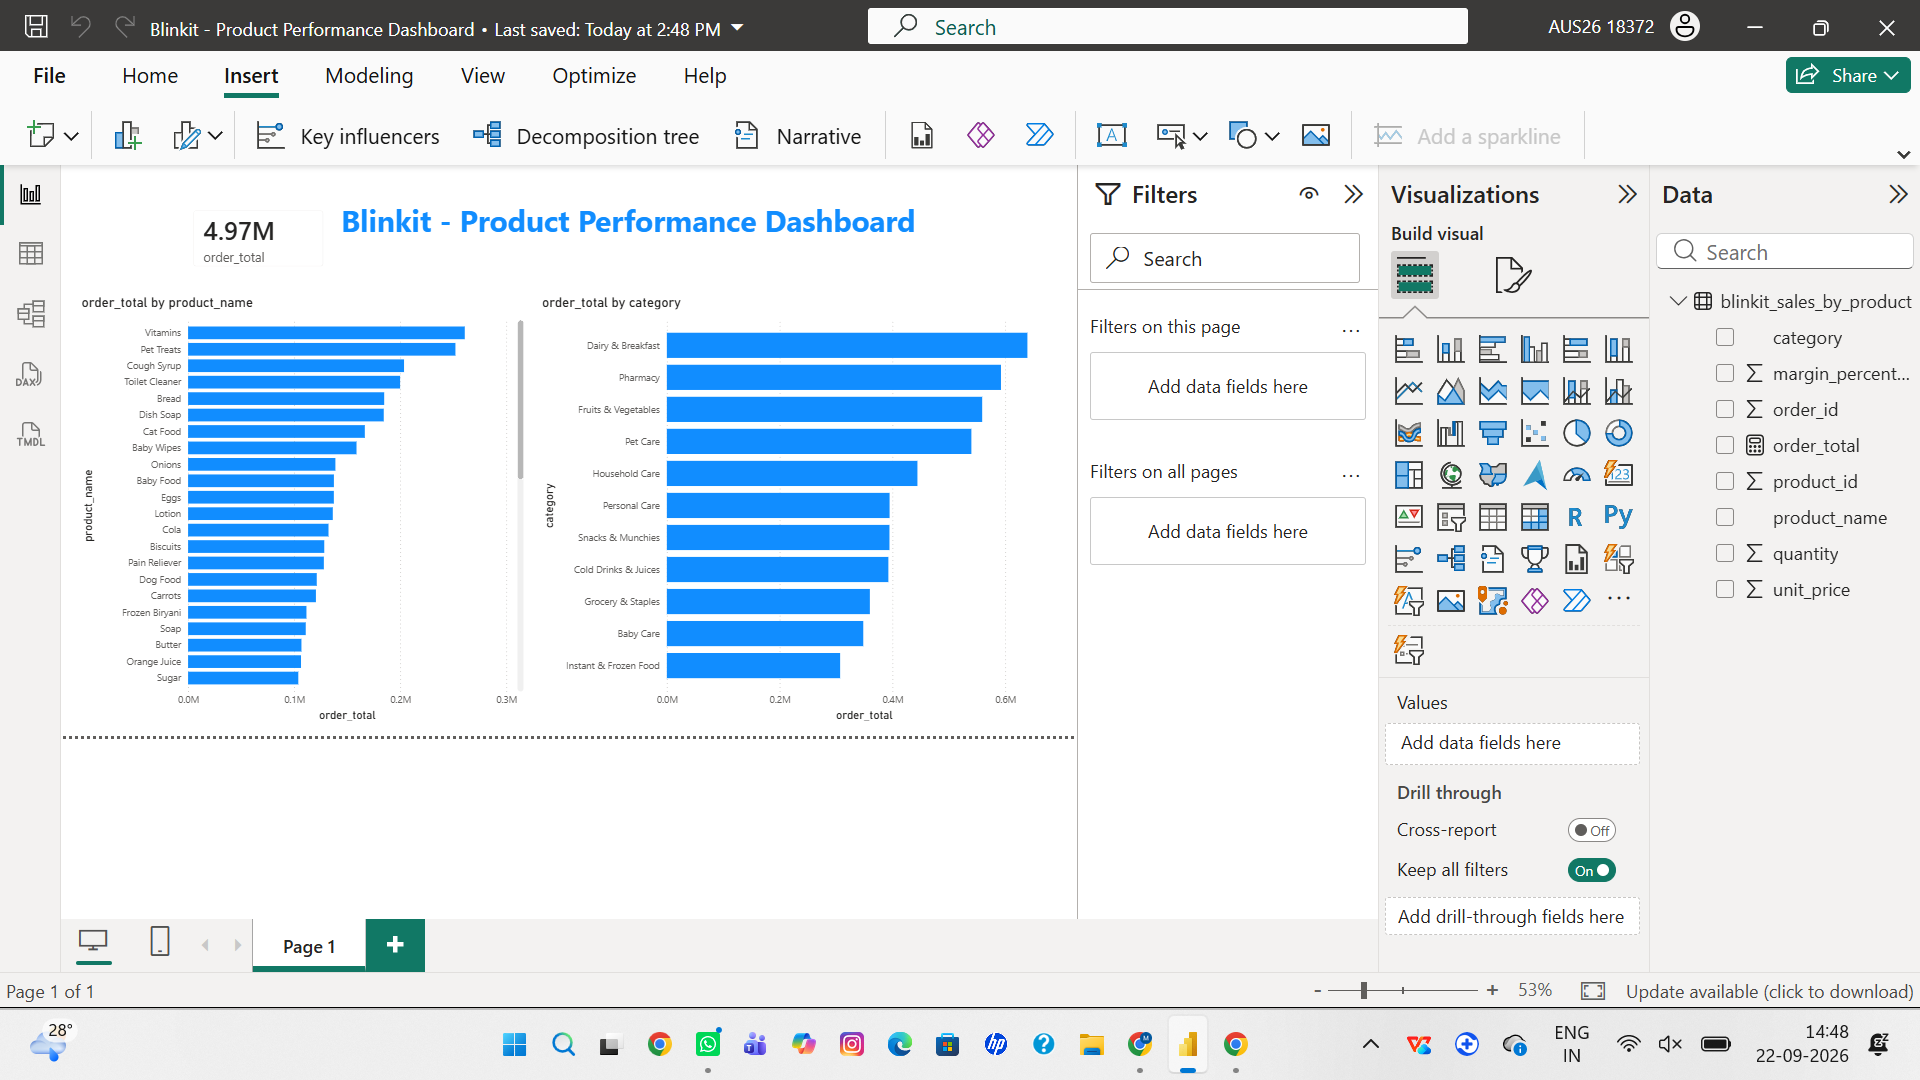

This screenshot's page, from the dashboard's own definition file:
{"tool":"powerbi","page":{"name":"Page 1","canvas":[1280,720],"ordinal":0},"visuals":[{"type":"cardVisual","fields":{"Data":["blinkit_sales_by_product.order_total"]},"box":[149.3,39.7,198.4,105.8],"z":0},{"type":"barChart","fields":{"Category":["blinkit_sales_by_product.category"],"Y":["blinkit_sales_by_product.order_total"]},"box":[600.9,162.5,678.4,542.4],"z":1},{"type":"barChart","fields":{"Category":["blinkit_sales_by_product.product_name"],"Y":["blinkit_sales_by_product.order_total"]},"box":[20.8,162.5,566.9,542.4],"z":2},{"type":"textbox","box":[347.7,39.7,852.3,109.6],"z":3}]}

Visuals, with their boxes on the page's 1280x720 design canvas (x1, y1, x2, y2). These are canvas units, not pixel positions in the 1920x1080 screenshot, which may show the page scaled, cropped or inside an application window:
cardVisual - blinkit_sales_by_product.order_total: left=149, top=40, right=348, bottom=146
barChart - blinkit_sales_by_product.category x blinkit_sales_by_product.order_total: left=601, top=162, right=1279, bottom=705
barChart - blinkit_sales_by_product.product_name x blinkit_sales_by_product.order_total: left=21, top=162, right=588, bottom=705
textbox: left=348, top=40, right=1200, bottom=149
